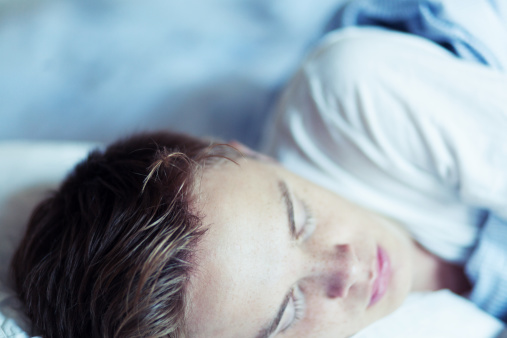deitado: (149, 42, 507, 338)
